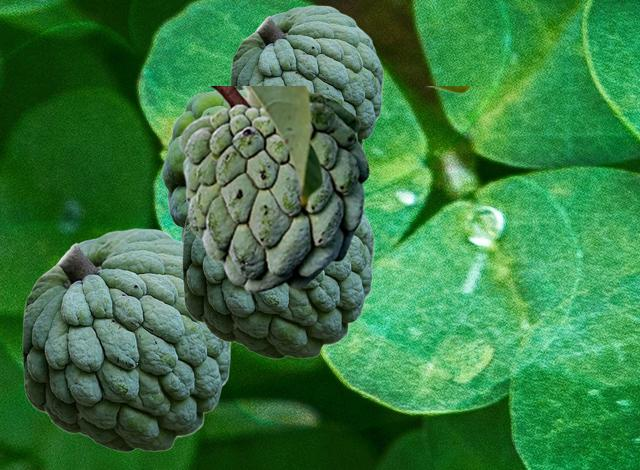atis: (178, 86, 470, 293), (22, 228, 231, 451), (182, 212, 373, 358), (230, 5, 382, 146), (161, 85, 244, 240)
